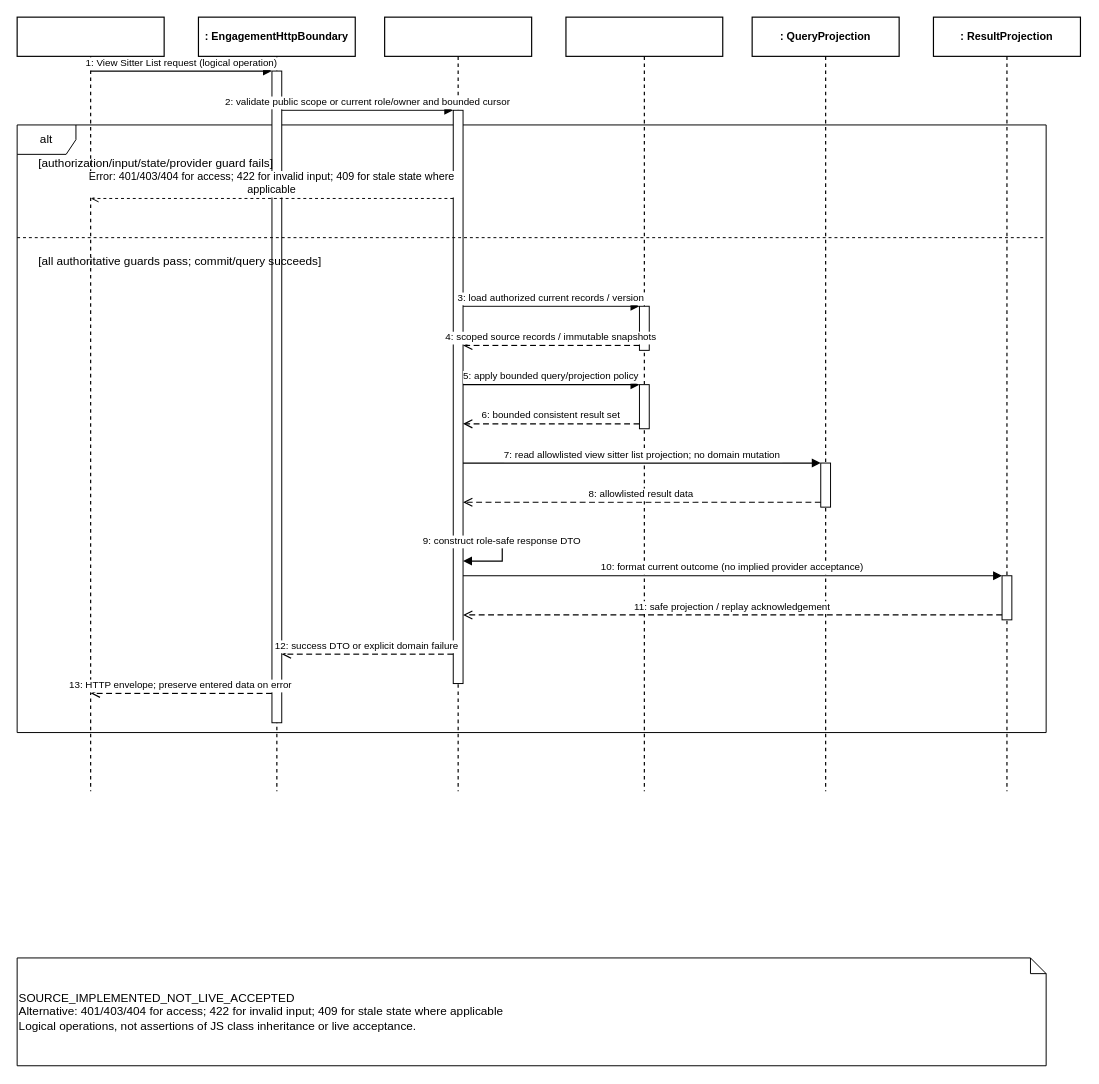
Image size: 1099x1084. Some labels were removed from this diagram. The box of each missing label's shape, as (x1, y1, x2, y2) in pixels:
: EngagementService: (384, 16, 532, 791)
: ReadRepository: (565, 16, 723, 791)
Client (Staff / Admin): (16, 16, 164, 791)
